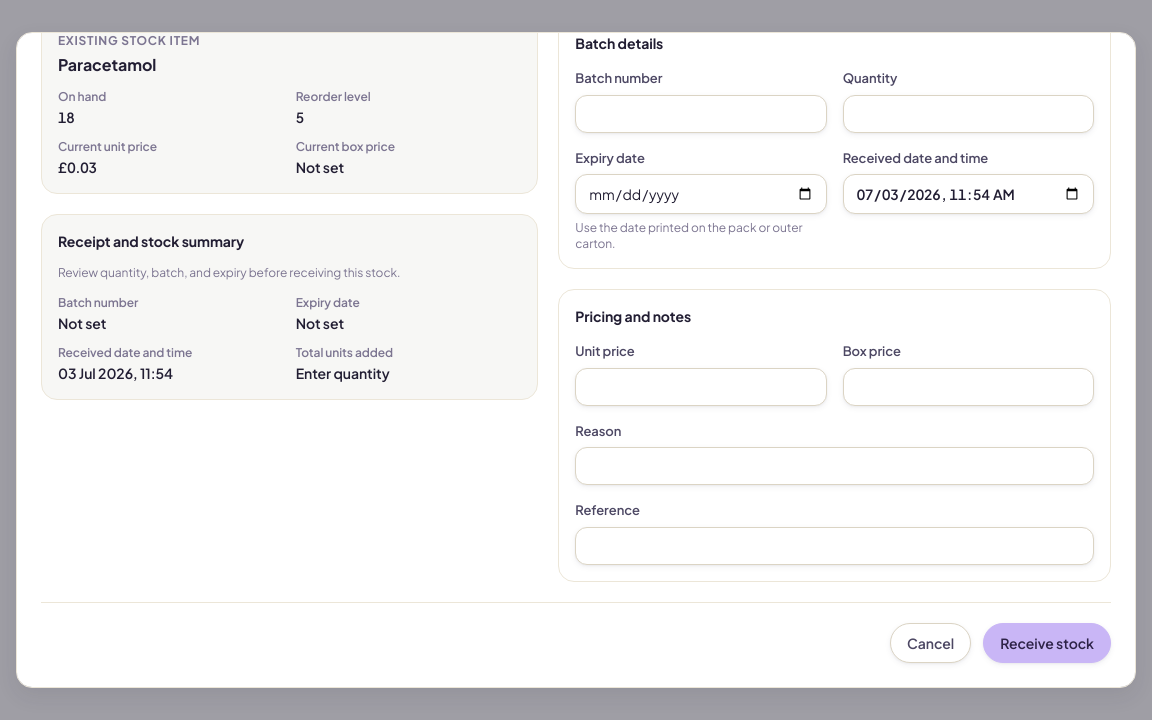
ReceiveStockModal › required validation blocks missing batch number expiry and invalid quantity
The image size is (1152, 720).
(page scrolled)
Click the button "Receive stock": point(1047, 642) [983,622,1111,662]
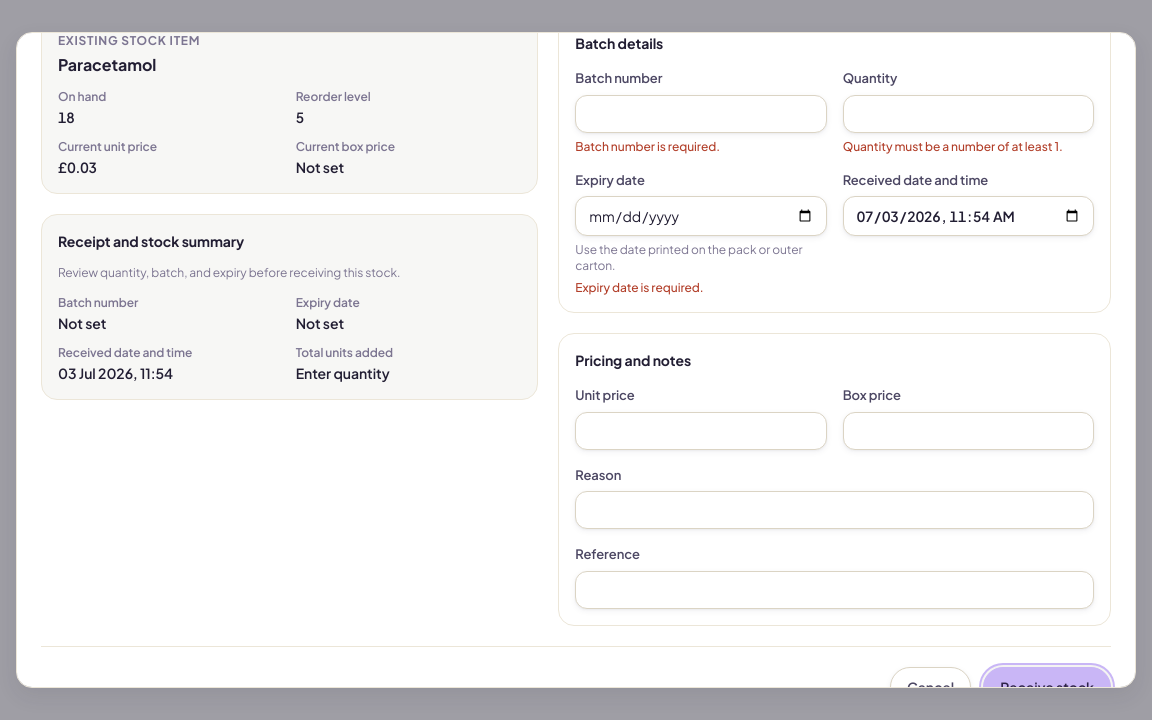
Now the list item "Batch number is required." is shown, box [575,138,720,154]
Now the list item "Expiry date is required." is shown, box [575,280,704,295]
Now the list item "Quantity must be a number of at least 1." is shown, box [843,138,1094,154]
